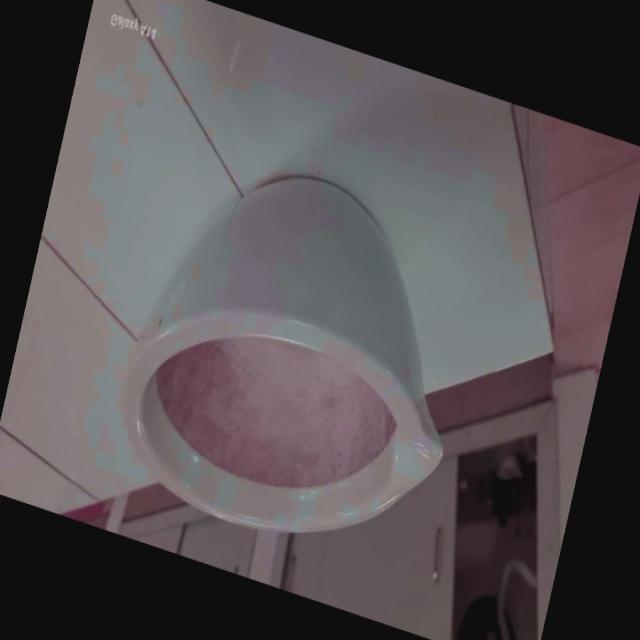Mortar and Pestle: (99, 126, 490, 585)
